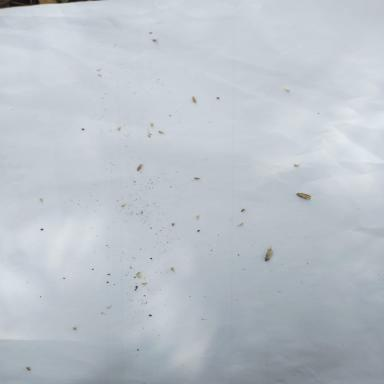pbw: (264, 244, 273, 260), (296, 193, 310, 199), (136, 163, 142, 171), (192, 96, 196, 102)
